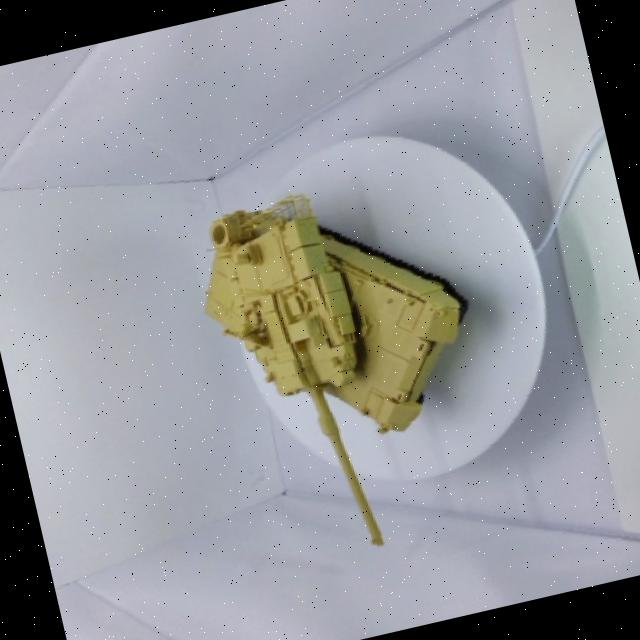korea tank: (149, 139, 542, 592)
